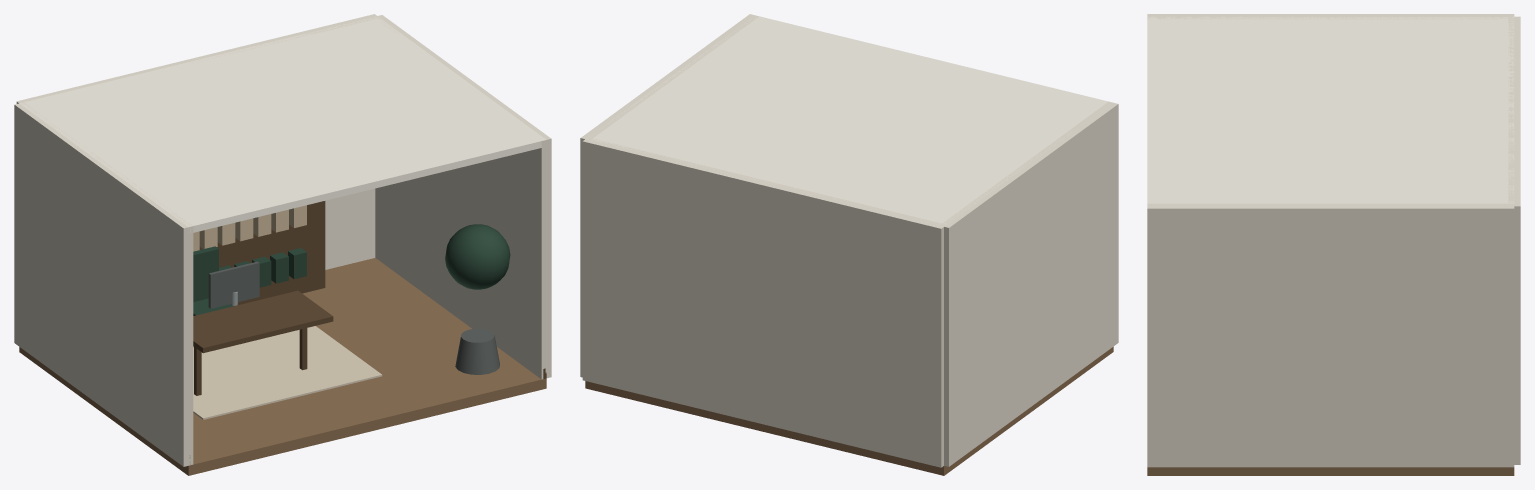
File: study.glb
3 views of the same model, side by side, from view 1: azimuth 30°, elevation 25°; view 2: azimuth 150°, elevation 25°; view 3: azimuth 270°, elevation 25° (orthographic). The views are drawn at different scales.
Bounding box in the file's own units: 4.52 × 2.92 × 3.66.
